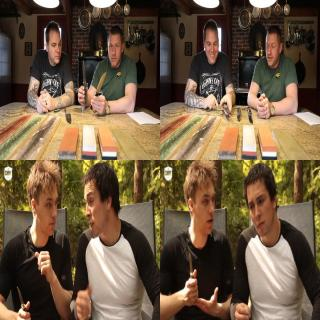knife: (184, 247, 199, 299), (14, 280, 32, 320), (90, 69, 108, 103), (78, 57, 89, 93), (220, 94, 232, 118)
